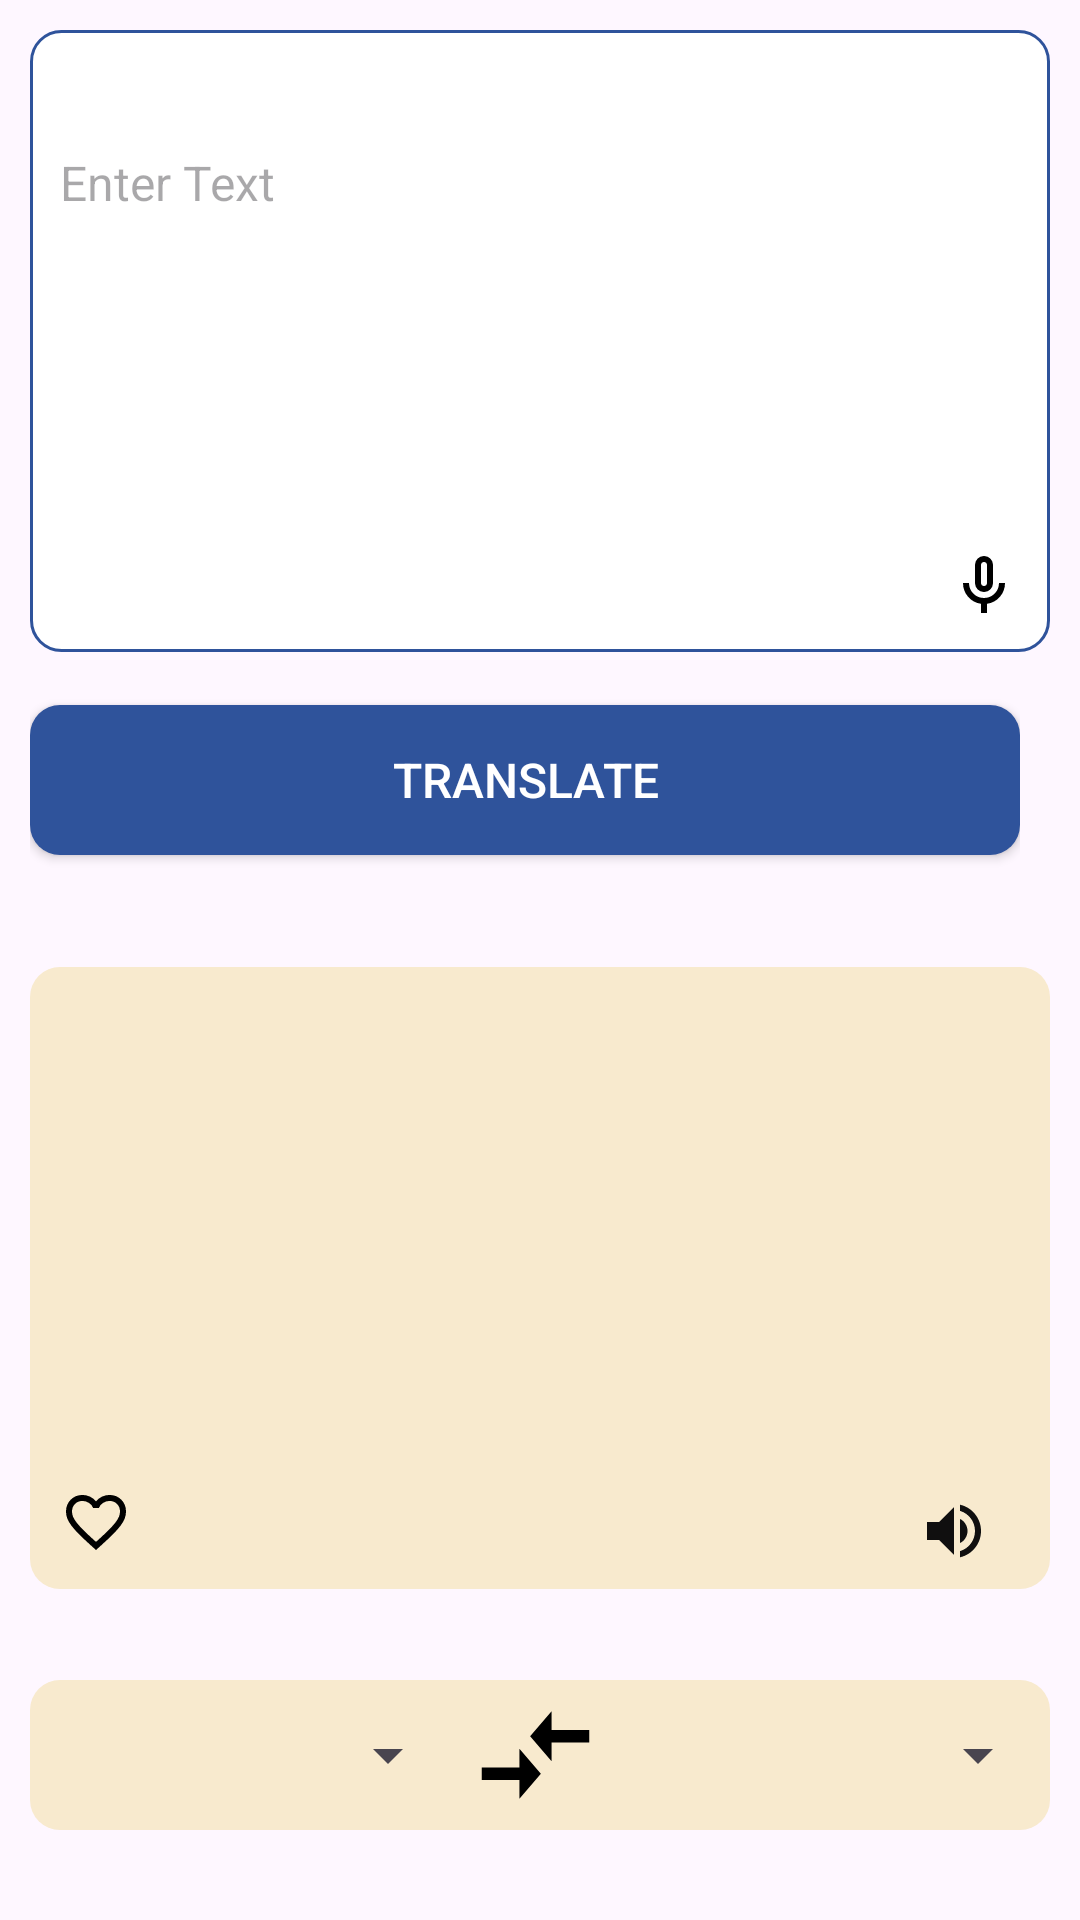

Icon bounding boxes for this 1080 × 1920 phone screenshot, format [left=x1, top=y1, right=x2, bottom=y2]:
compare arrows: [left=481, top=1711, right=590, bottom=1799]
favourite: [left=66, top=1495, right=126, bottom=1550]
mic: [left=963, top=556, right=1005, bottom=613]
volume up: [left=927, top=1504, right=981, bottom=1558]
